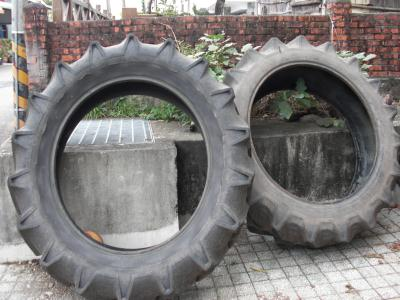tire: (4, 33, 256, 299), (222, 40, 398, 251)
